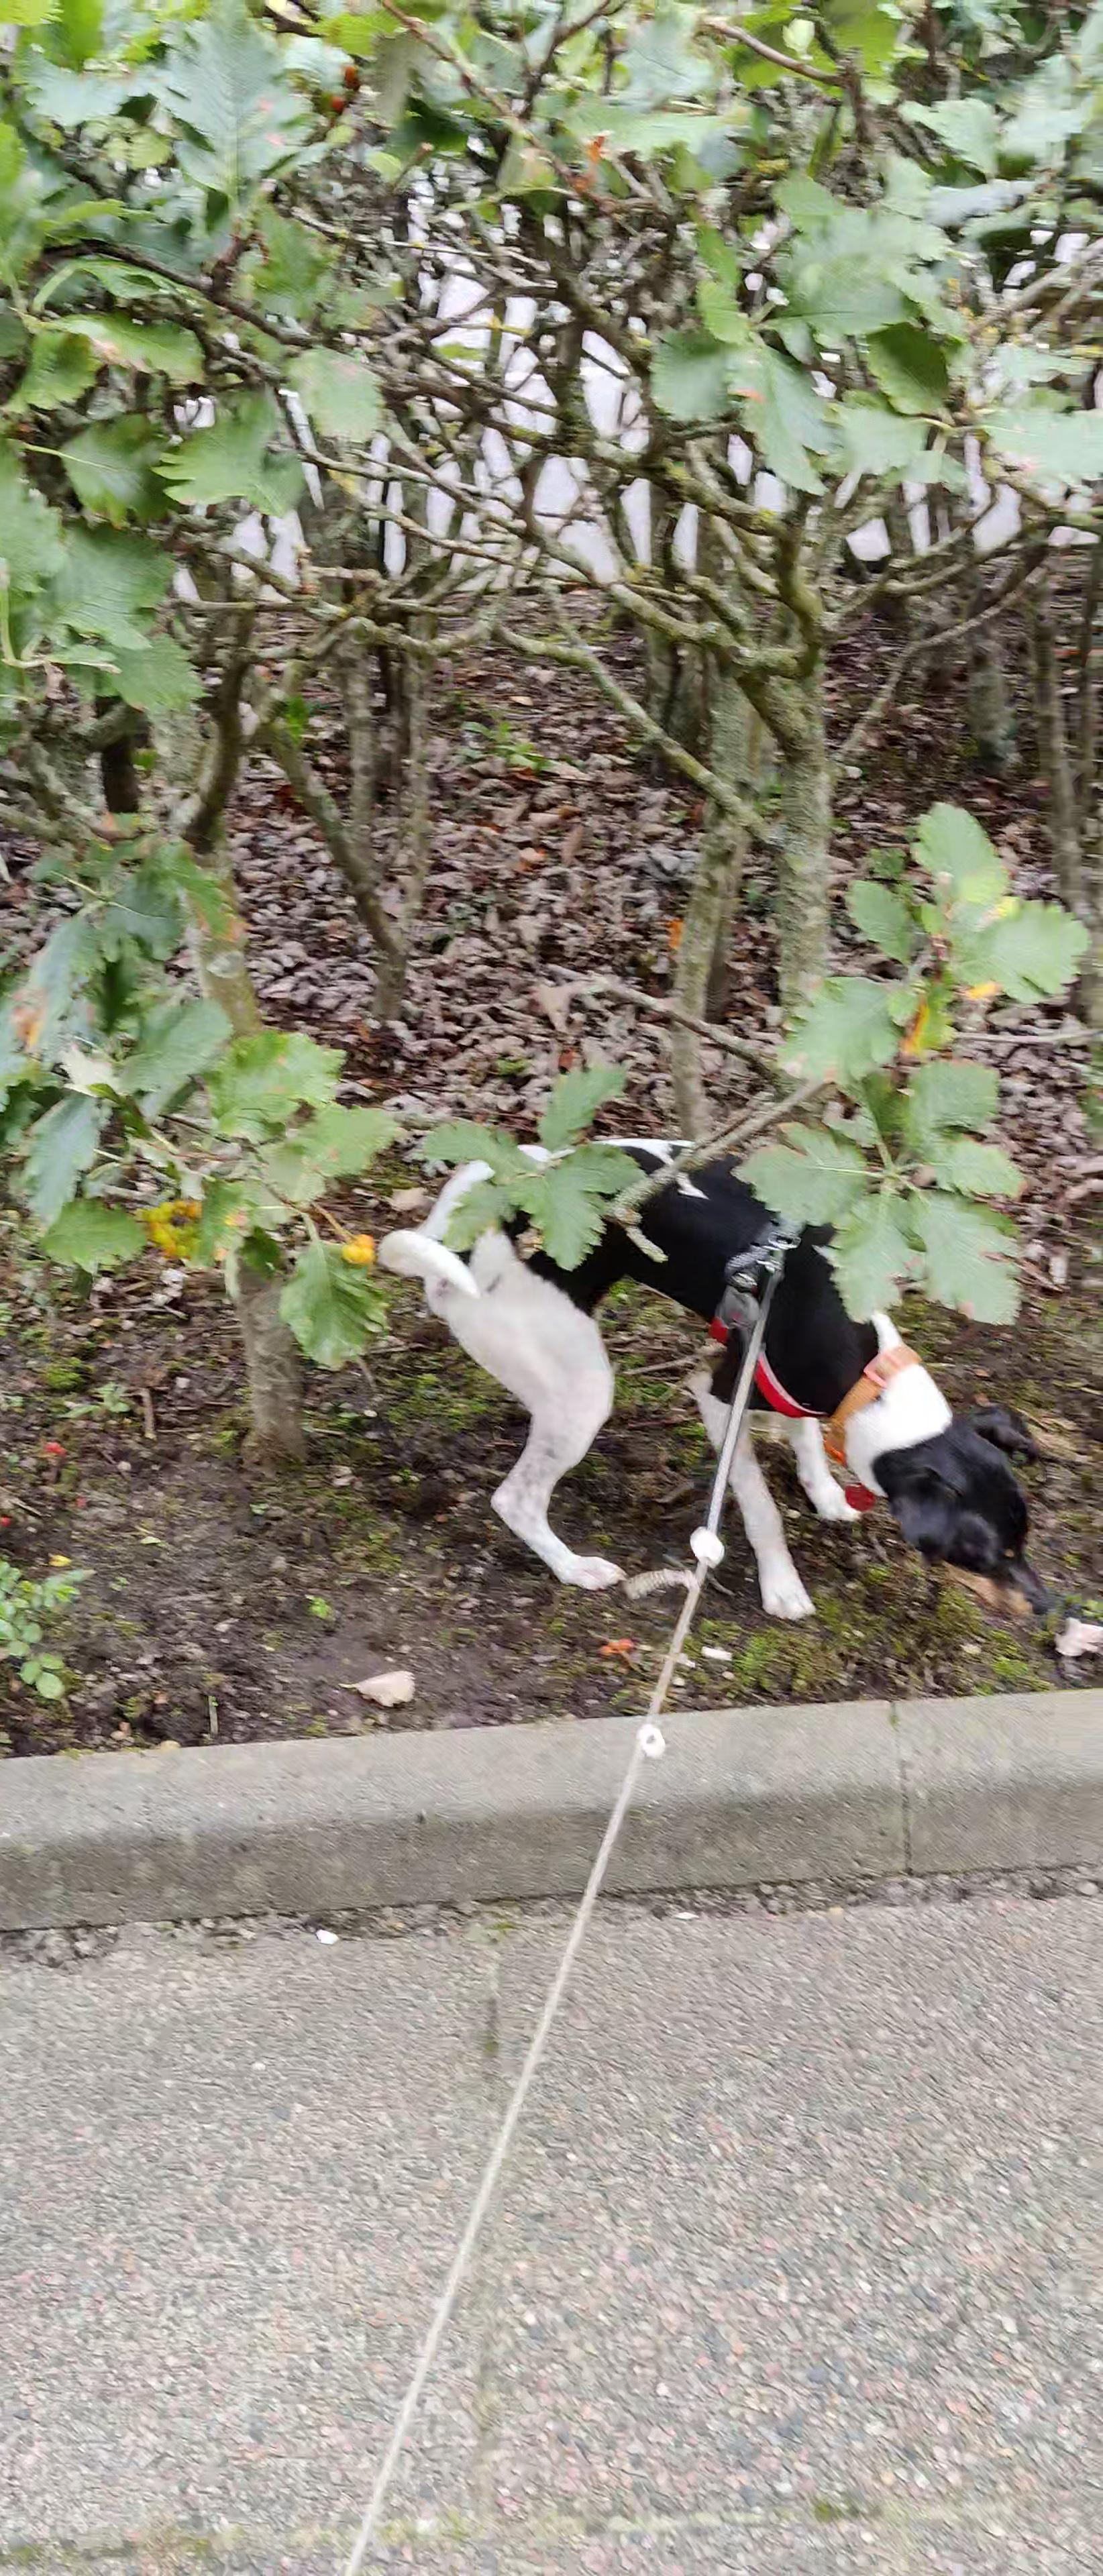Dog: (376, 1120, 1060, 1625)
